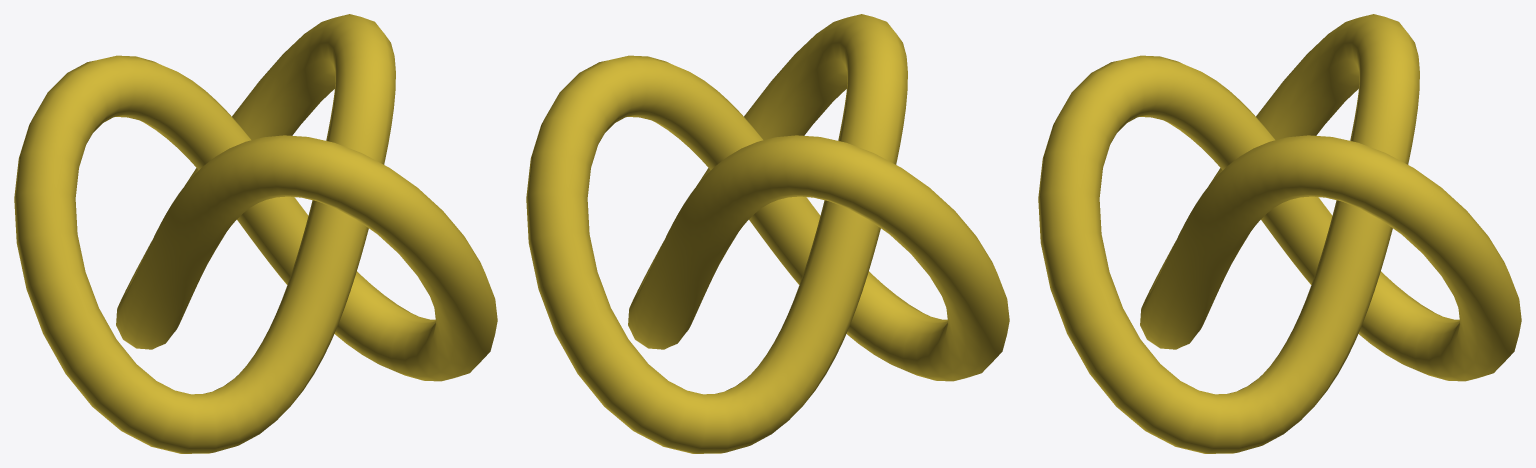
The model's file is knot.obj.
3 views of the same model, side by side, from view 1: azimuth 30°, elevation 25°; view 2: azimuth 150°, elevation 25°; view 3: azimuth 270°, elevation 25° (orthographic).
Visible parts, largest first — view 1: Torus_Knot01; view 2: Torus_Knot01; view 3: Torus_Knot01.
Part boxes in pixels (left/top/right/bottom): Torus_Knot01: left=14, top=14, right=497, bottom=453; Torus_Knot01: left=526, top=14, right=1009, bottom=453; Torus_Knot01: left=1038, top=14, right=1521, bottom=453.
Bounding box in the file's own units: 158 × 120 × 169.
